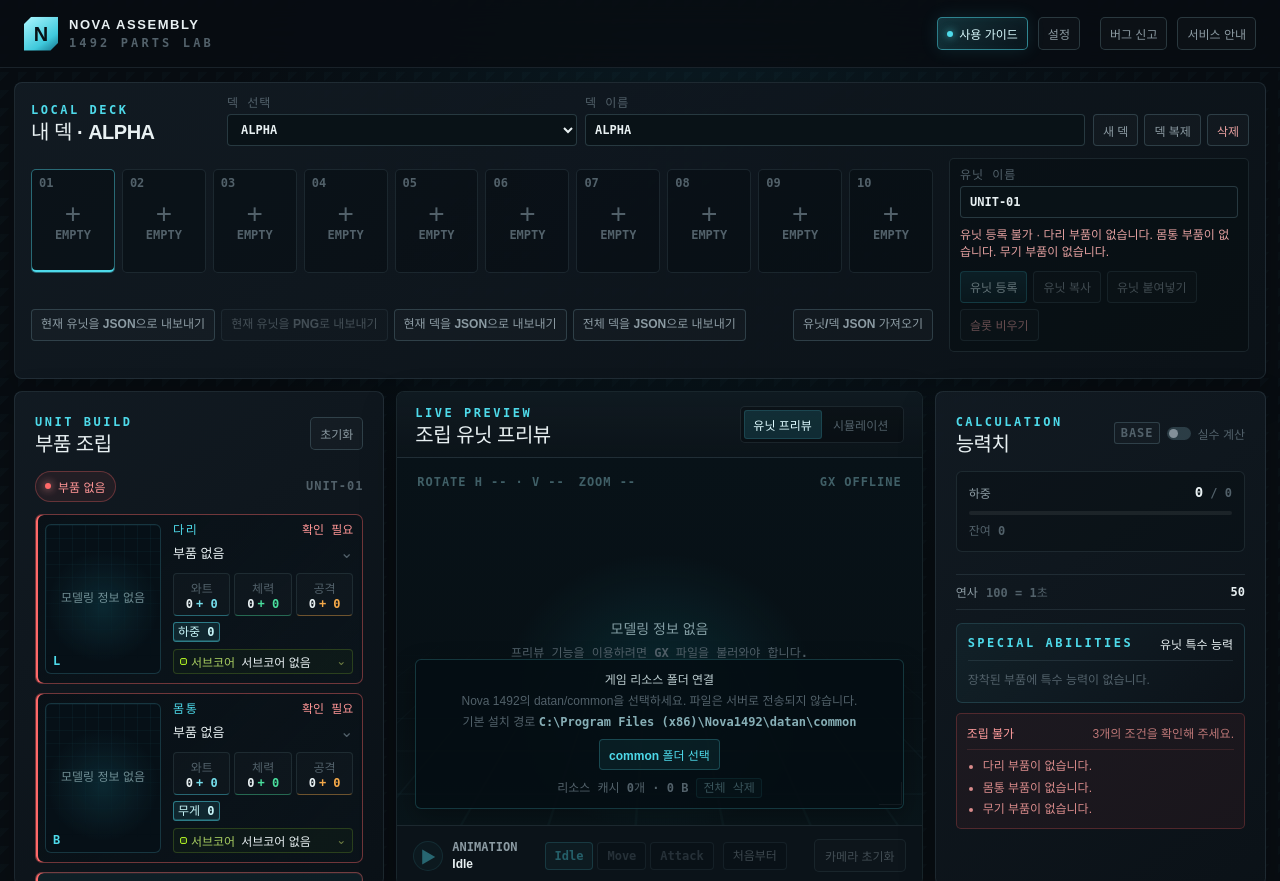
Test case: T09 부품 선택 및 강화 UI › 서브코어를 아이콘 목록에서 선택해 부품 카드에 반영한다
This screenshot has width=1280, height=881.
Click the button with aria-label "다리 서브코어 변경" at (263, 661), box [173,649,353,674]
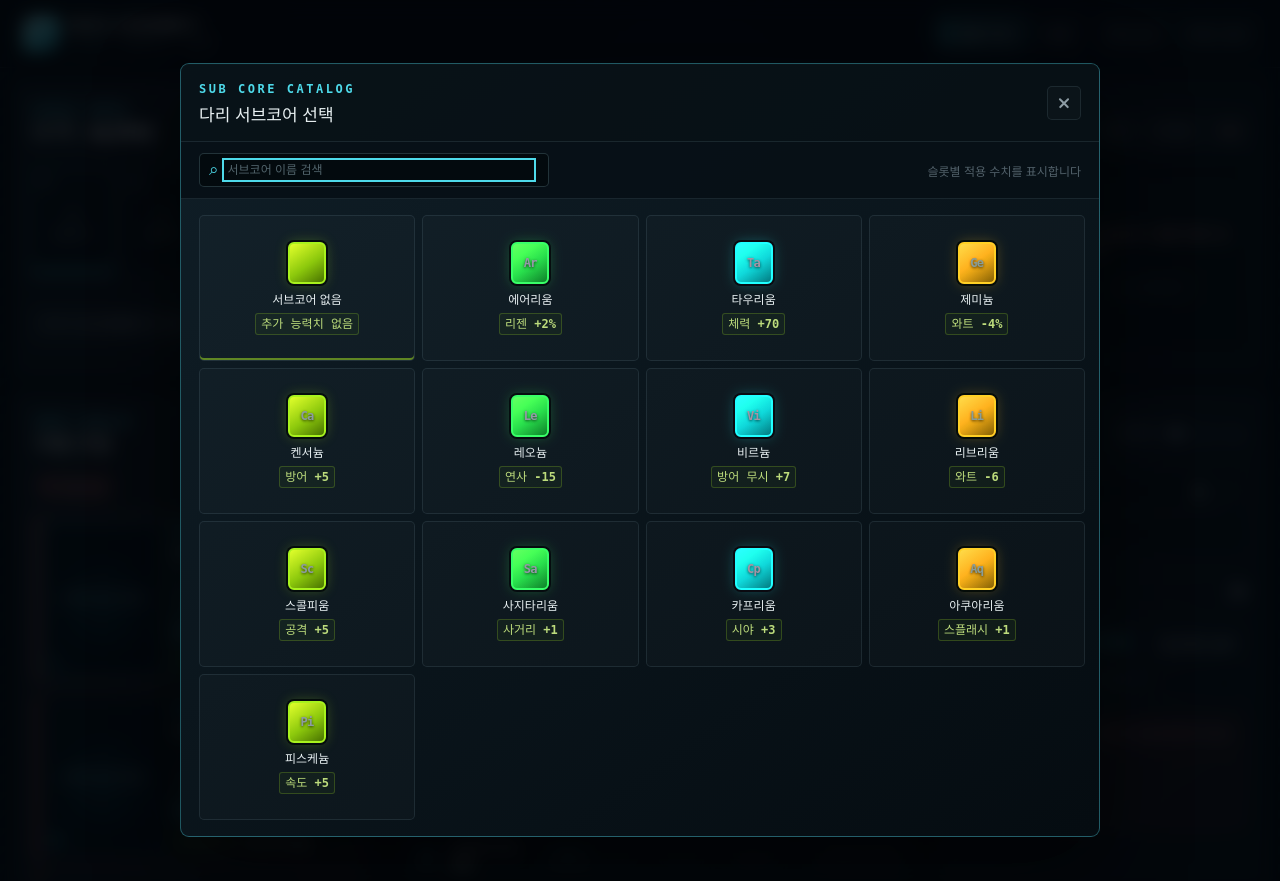
Expected: the button with aria-label "에어리움," shows "Ar", [422,215,639,361]
Expected: the element with class "subcore-card-tags" reads "연사 -15", [499,466,562,488]
Click the button with aria-label "레오늄," at (530, 441), box [422,368,639,514]
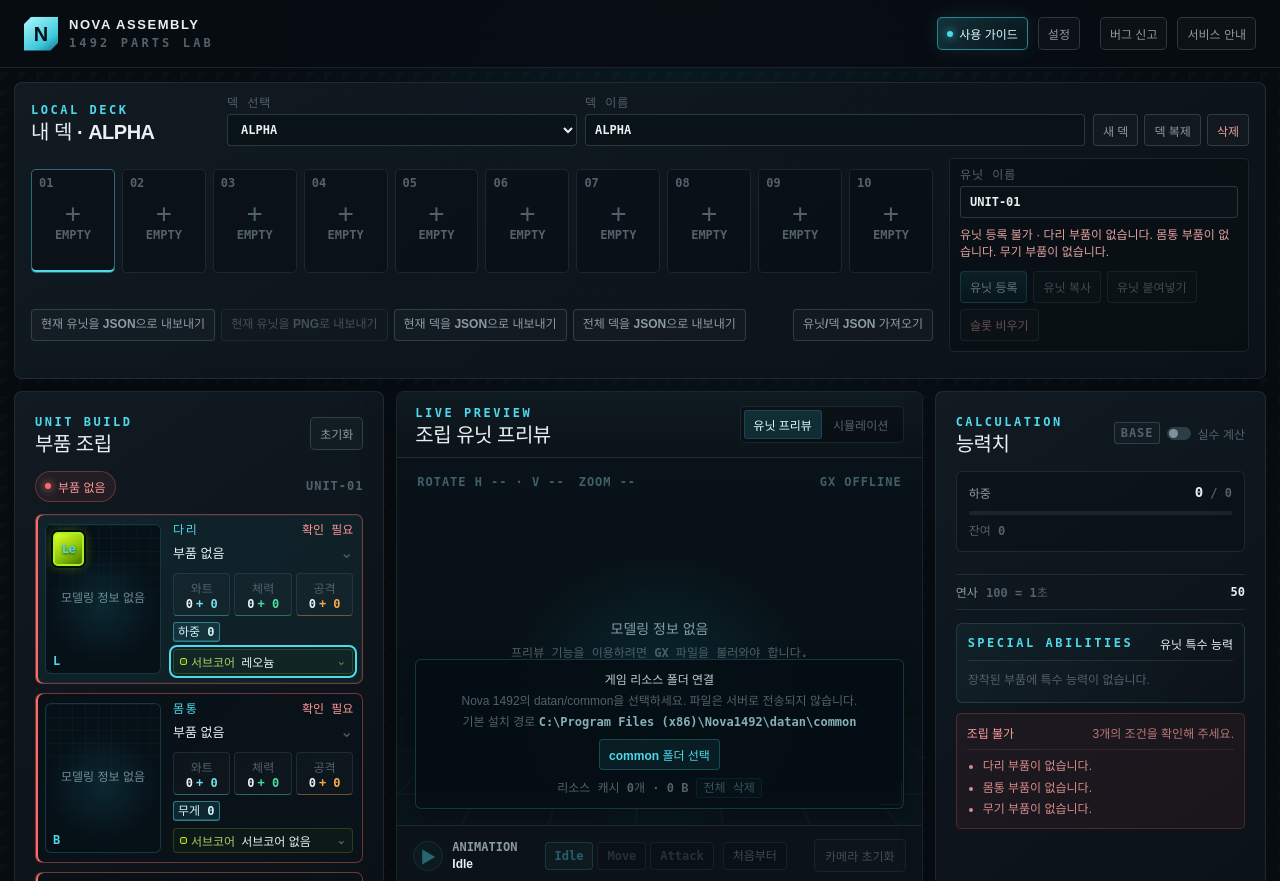
Expected: the heading "다리 서브코어 선택" is gone
Expected: the button with aria-label "다리 서브코어 변경, 현재 레오늄" is shown, [173,649,353,674]
